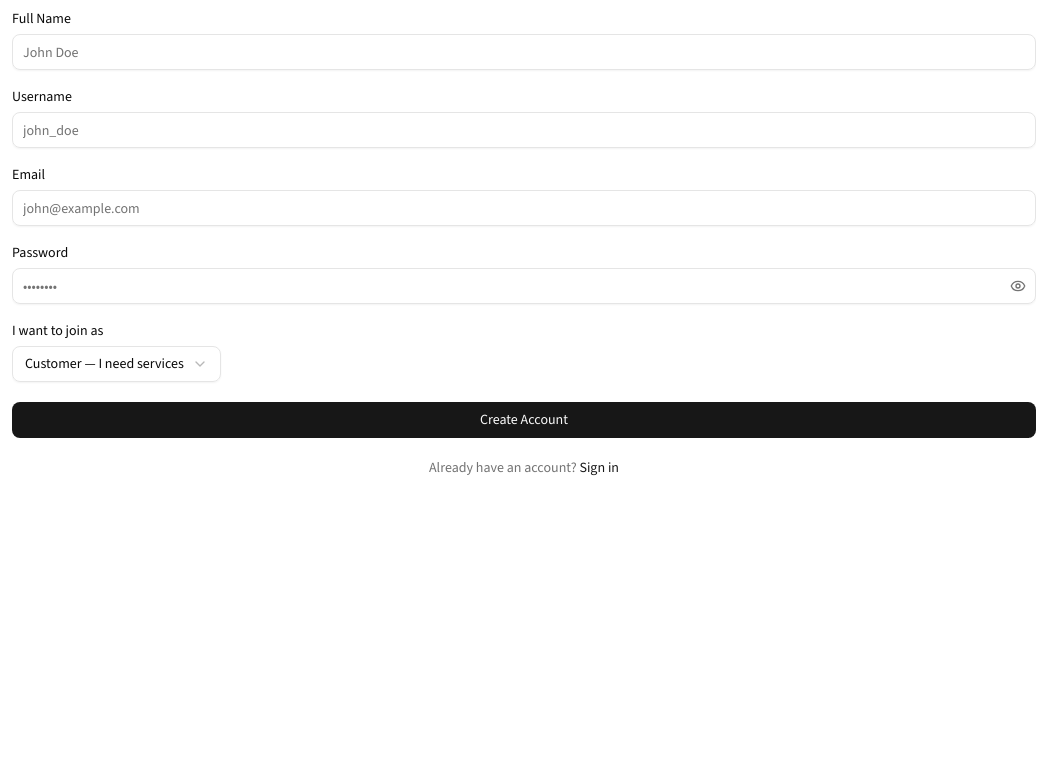
Test case: RegisterForm › validation › shows error when name is too short
Type "J" into the field labelled "Full Name" at coordinates (524, 52), box [12,34,1036,70]
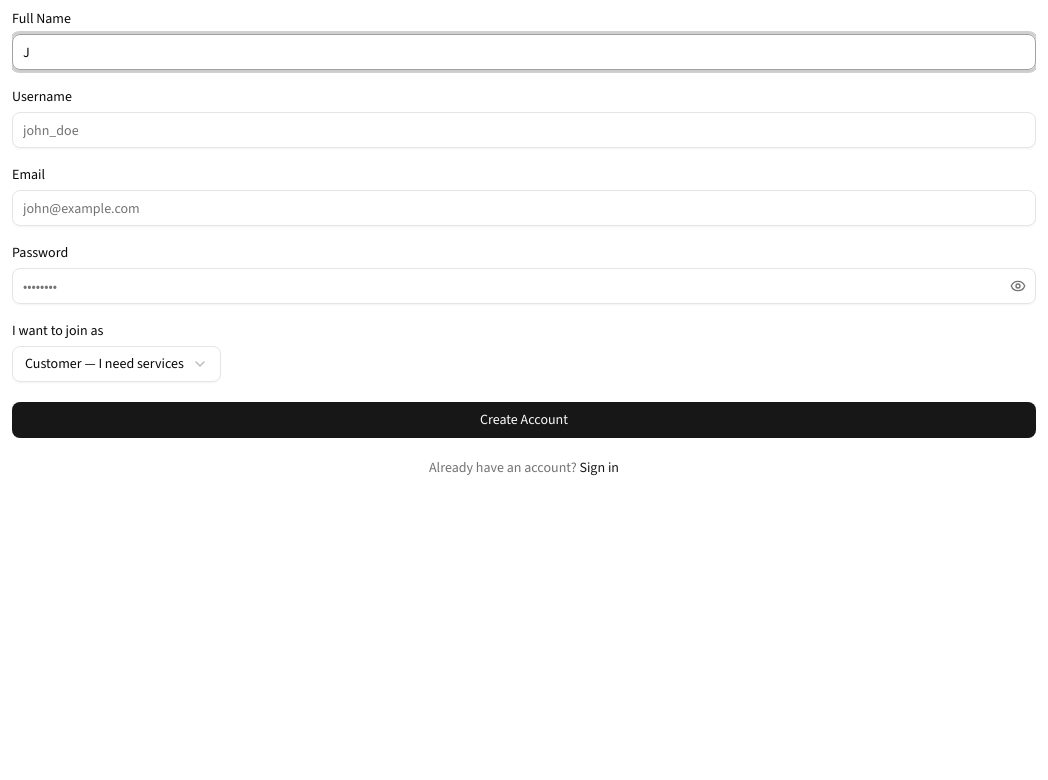
Click the button "Create Account" at coordinates (524, 420), box [12,402,1036,438]
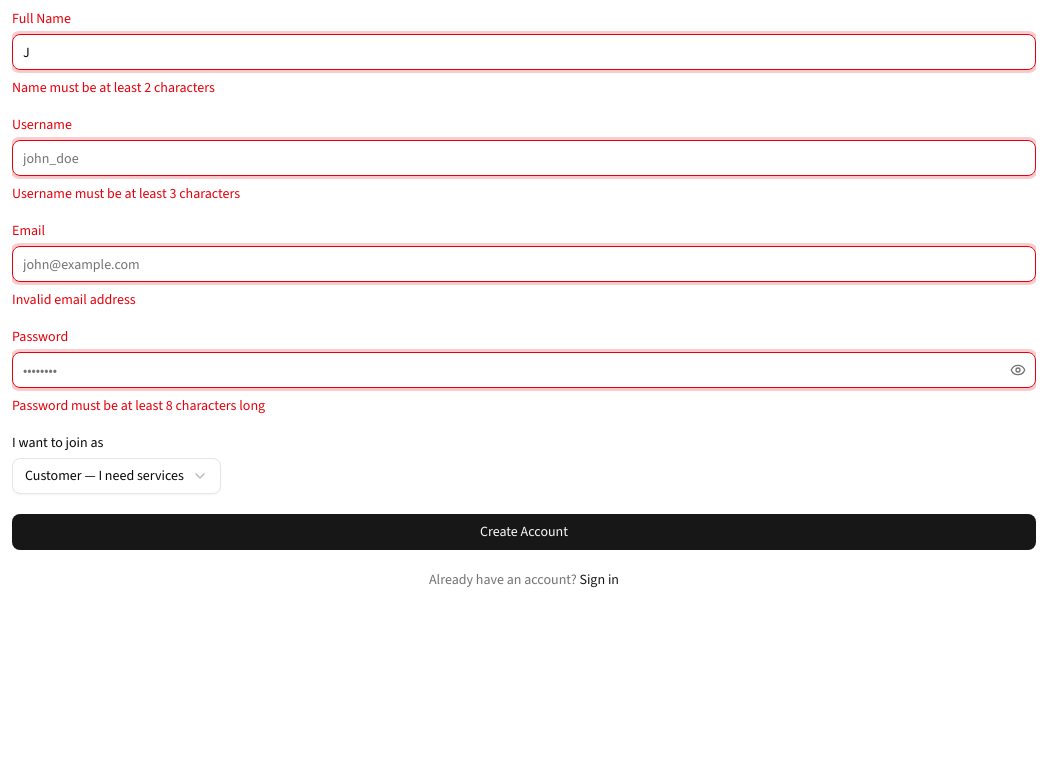
Now the text "Name must be at least 2 characters" is shown, box [12,78,215,97]
